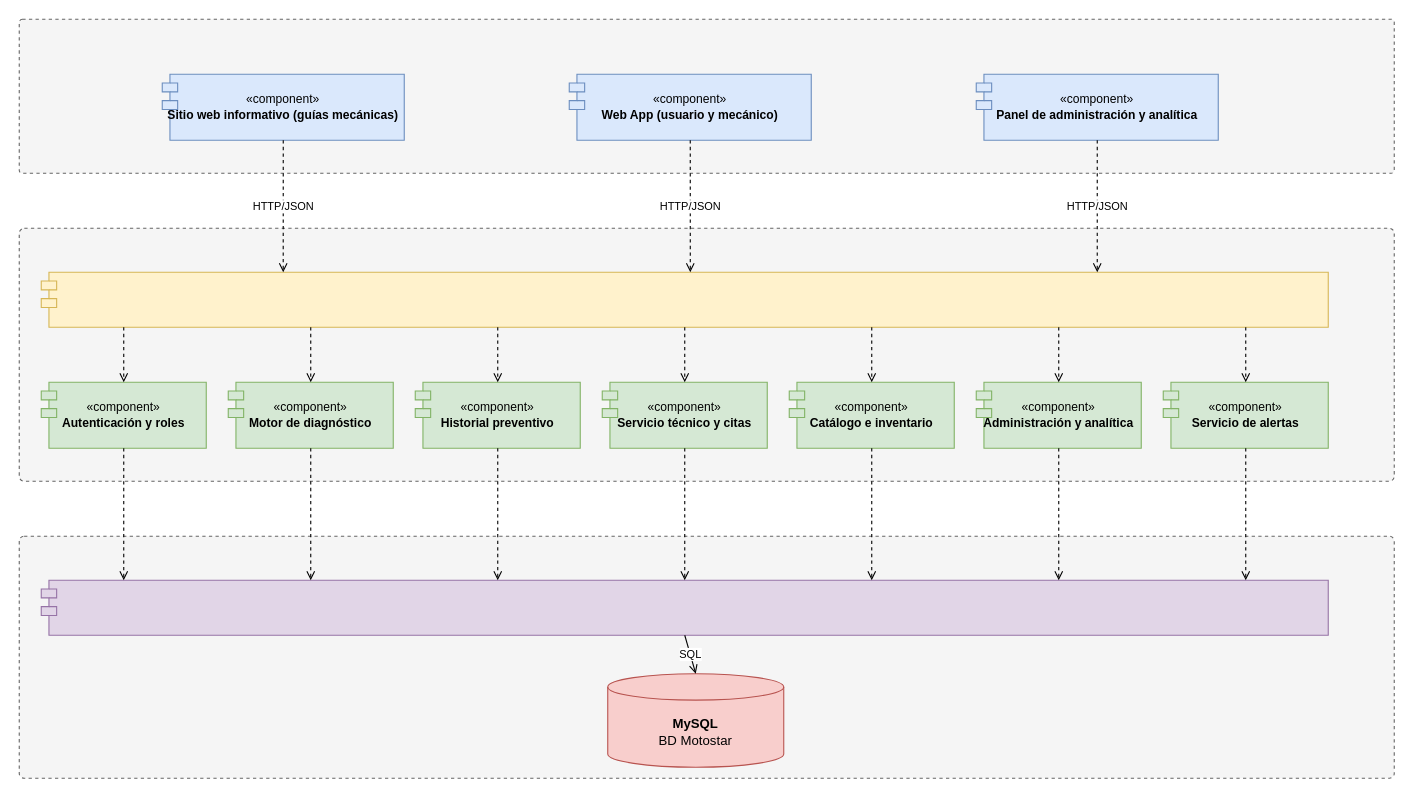
Image size: 1414x798. Some labels were removed from this diagram. Each missing label, with the box of its shape:
Capa de datos: (18, 535, 1394, 778)
Capa de negocio (servidor de aplicación): (18, 227, 1394, 481)
Capa de presentación (navegador): (18, 18, 1394, 173)
«component» Acceso a datos (DAO / consultas SQL): (40, 579, 1328, 635)
«component» API REST / Controladores: (40, 271, 1328, 327)
